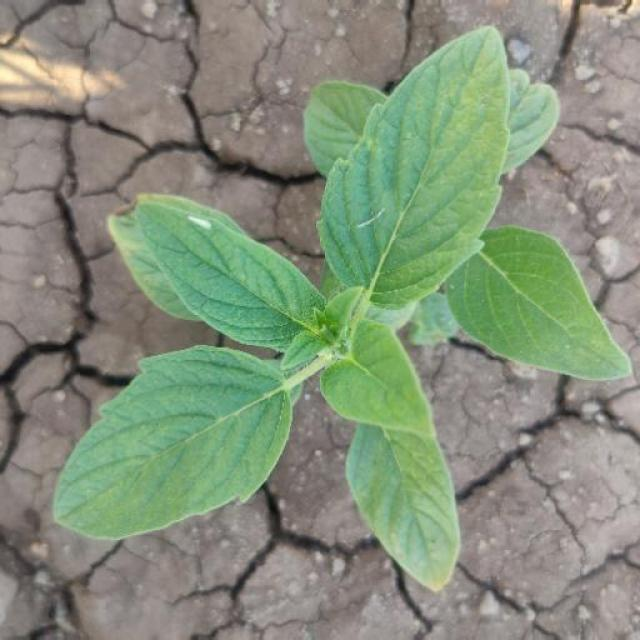crop: (54, 30, 630, 595)
